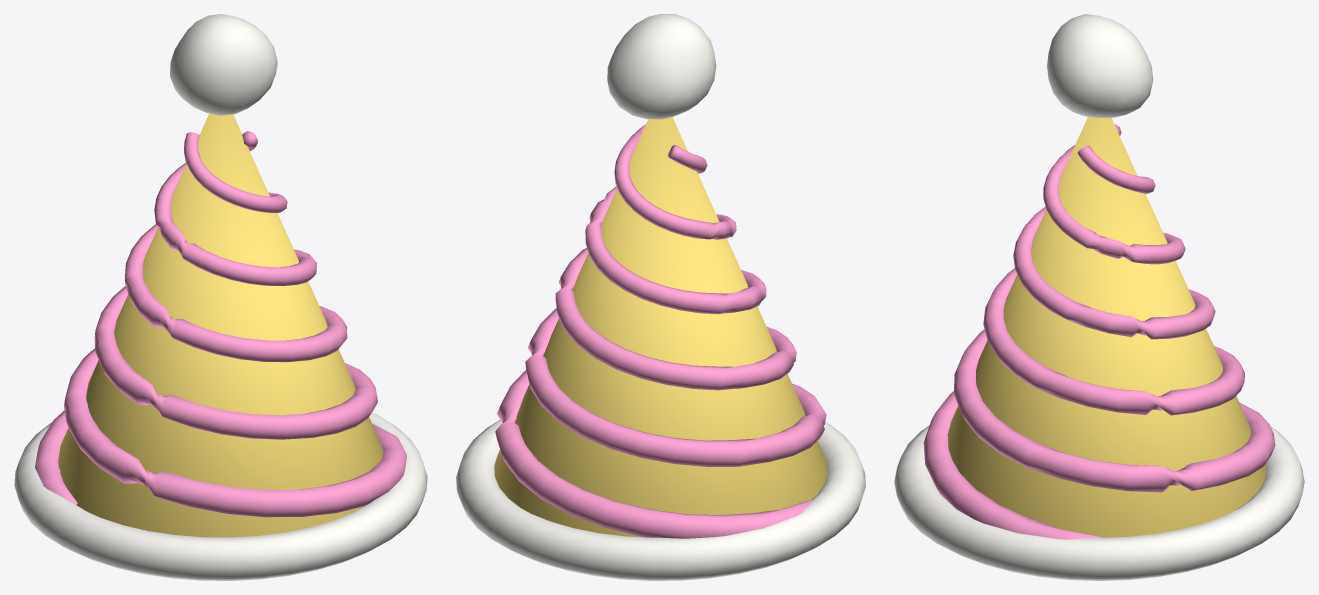
Rendered from GoldPartyHat.glb.
3 renders of one model, left to right at view 1: azimuth 30°, elevation 25°; view 2: azimuth 150°, elevation 25°; view 3: azimuth 270°, elevation 25°, orthographic.
Parts seen in each view (by area): view 1: PartyGold, PartyStripe, PartyTrim; view 2: PartyGold, PartyStripe, PartyTrim; view 3: PartyGold, PartyStripe, PartyTrim.
Boxes of the visible parts, x1,y1,x2,y2 form: PartyGold: (58,113,383,537); PartyStripe: (35,131,406,517); PartyTrim: (14,14,427,580); PartyGold: (494,117,827,537); PartyStripe: (495,124,826,538); PartyTrim: (456,14,865,580); PartyGold: (947,117,1266,537); PartyStripe: (923,124,1275,539); PartyTrim: (894,14,1304,580).
Size of the model in its own units: 0.906 by 1.17 by 0.906.
